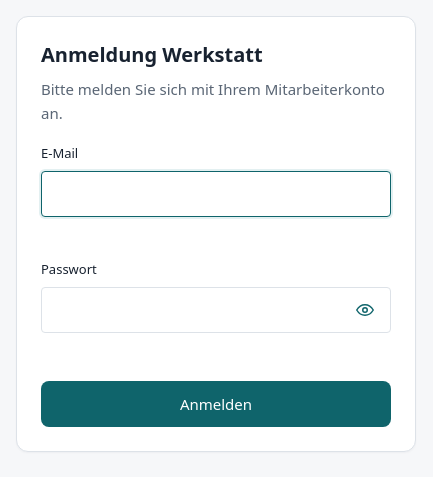
Test: LoginPage › shows a field error only after a submit attempt
Step 1. Click the button "Anmelden" → (216, 404), box [41,381,391,427]
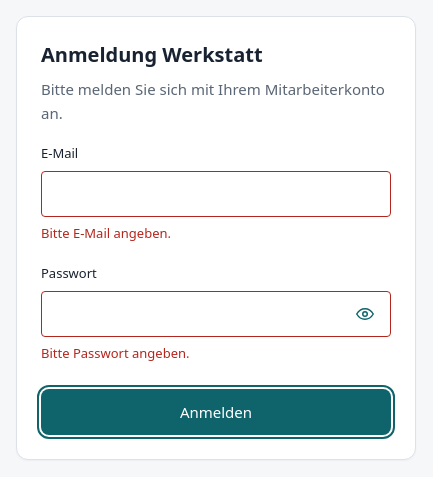
Check: the text "Bitte E-Mail angeben." is shown, box [41,224,171,242]
Check: the text "Bitte Passwort angeben." is shown, box [41,344,190,362]
